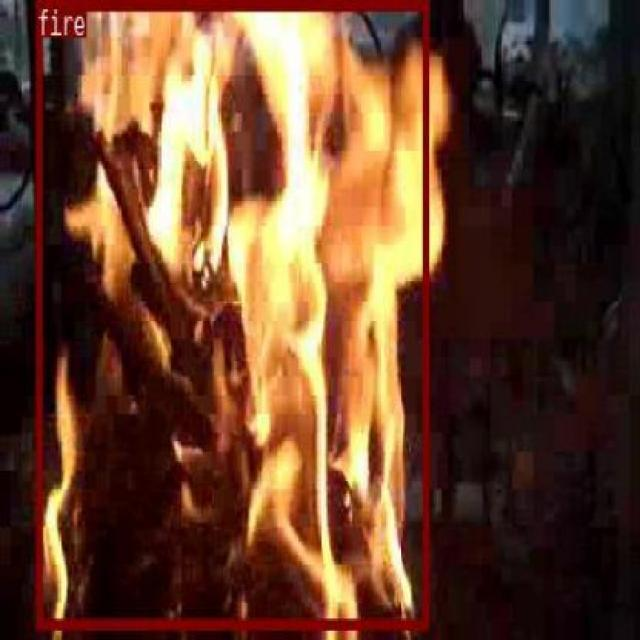Fire: (232, 313, 393, 626)
